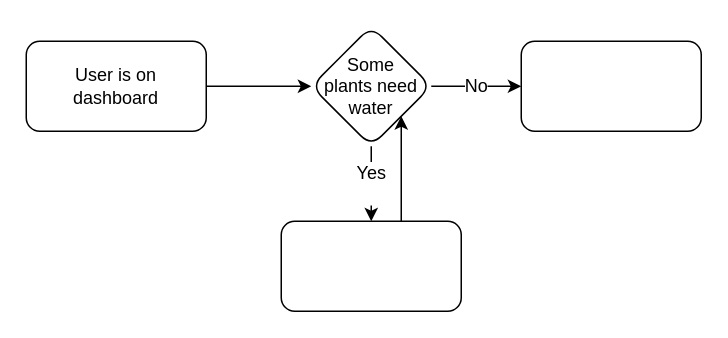
The diagram is 728 pixels wide and 338 high, and some of its shapes have lost their labels. The shapes that lost their labels are listed below. From the top down, each one's box as (x1, y1, x2, y2) in pixels, then its label:
(520, 40, 701, 131): Done
(280, 220, 461, 311): User waters plant and confirms it
